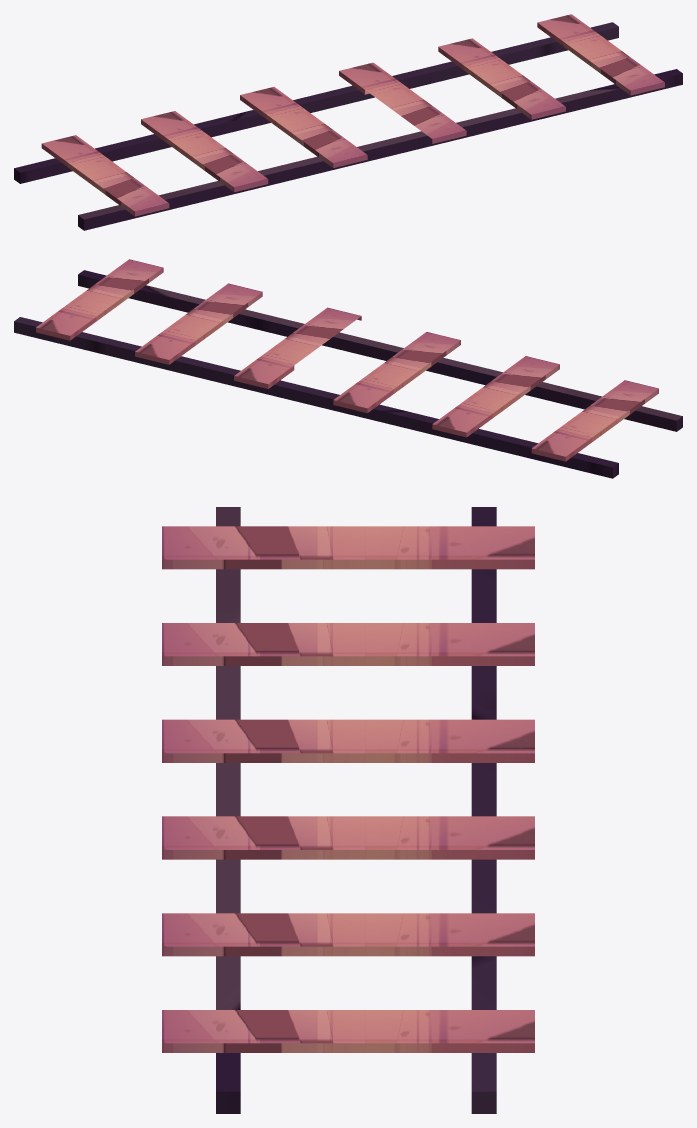
The model's file is via del tren.fbx.
3 views of the same model, one above another, from view 1: azimuth 30°, elevation 25°; view 2: azimuth 150°, elevation 25°; view 3: azimuth 270°, elevation 25° (orthographic). The views are drawn at different scales.
Visible parts, largest first — view 1: Cube.028; view 2: Cube.028; view 3: Cube.028.
Boxes of the visible parts, x1,y1,x2,y2 form: Cube.028: (14, 14, 682, 230); Cube.028: (14, 259, 682, 478); Cube.028: (162, 507, 534, 1113).
Bounding box in the file's own units: 427 × 13.54 × 115.
